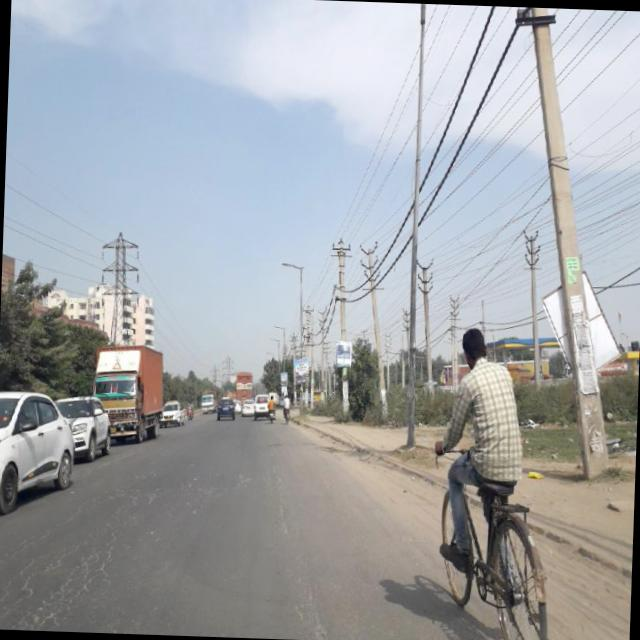crack: (0, 528, 125, 628)
pothole: (266, 452, 292, 544)
